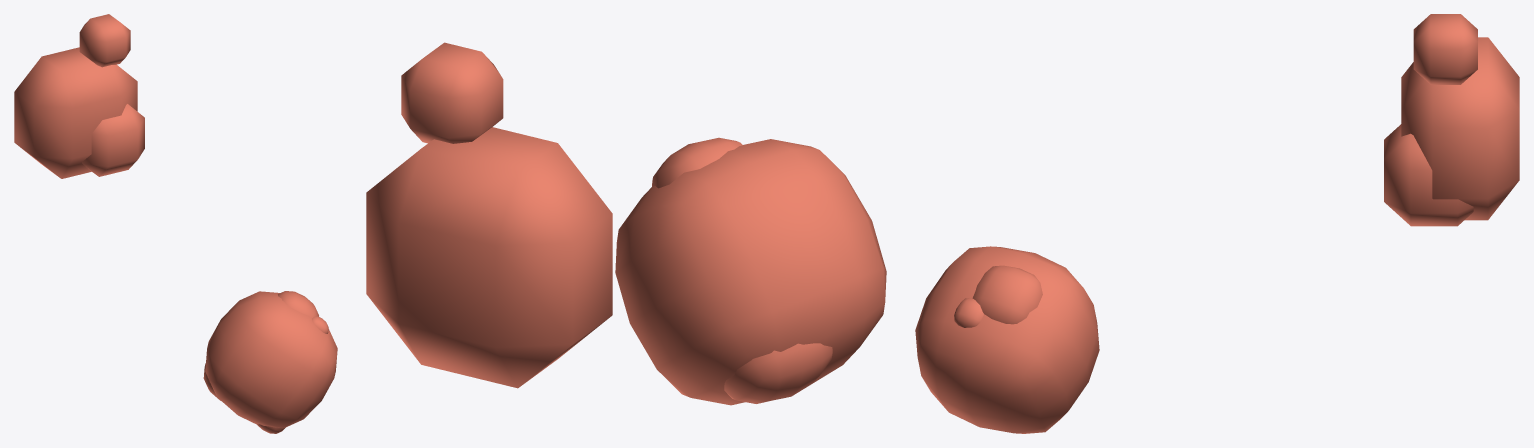
The model's file is MSH_Guts_01.fbx.
The picture shows the model from 3 angles, left to right: view 1: azimuth 30°, elevation 25°; view 2: azimuth 150°, elevation 25°; view 3: azimuth 270°, elevation 25°; orthographic projection. The views are drawn at different scales.
Visible parts, largest first — view 1: MSH_Guts_01; view 2: MSH_Guts_01; view 3: MSH_Guts_01.
Part boxes in pixels (x1,y1,x2,y2): MSH_Guts_01: (14, 14, 337, 433); MSH_Guts_01: (366, 42, 886, 405); MSH_Guts_01: (915, 14, 1519, 433).
Bounding box in the file's own units: 197 × 373 × 511.
